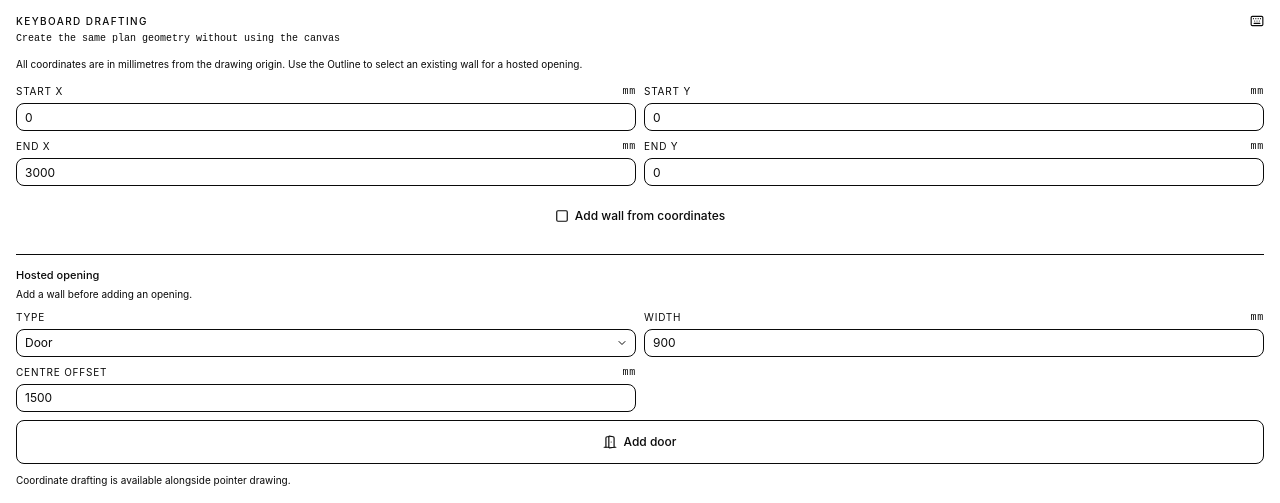
Scenario: AccessibleDraftingPanel › aria-live status updates › status message updates live as form interactions occur
# Trigger validation error
Replace the text in the field labelled "Start X mm" with "xyz" at (326, 117), box [16,103,636,131]
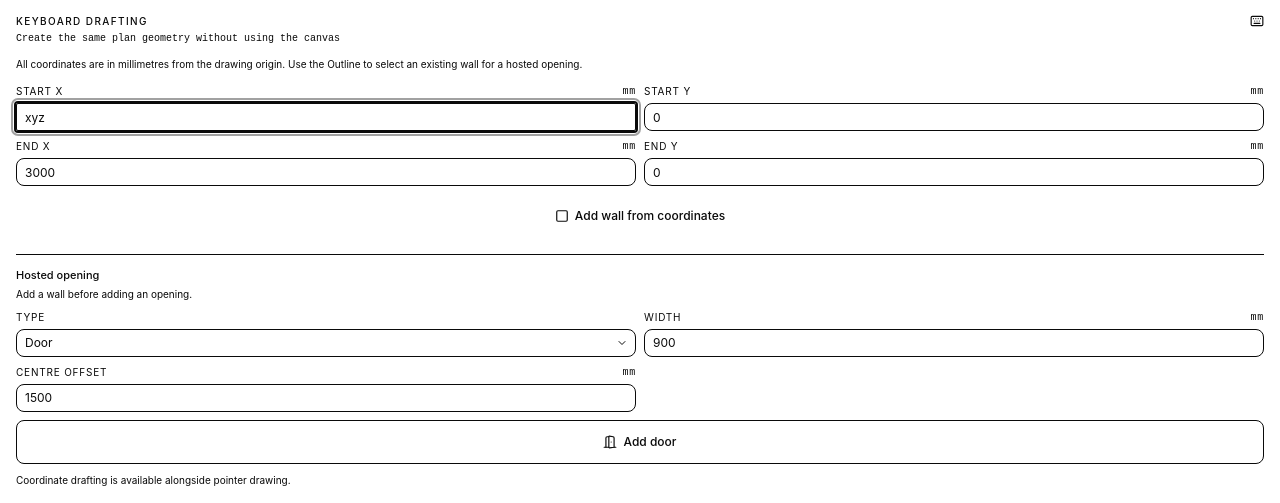
Click the button "Add wall from coordinates" at (640, 216), box [16,194,1264,238]
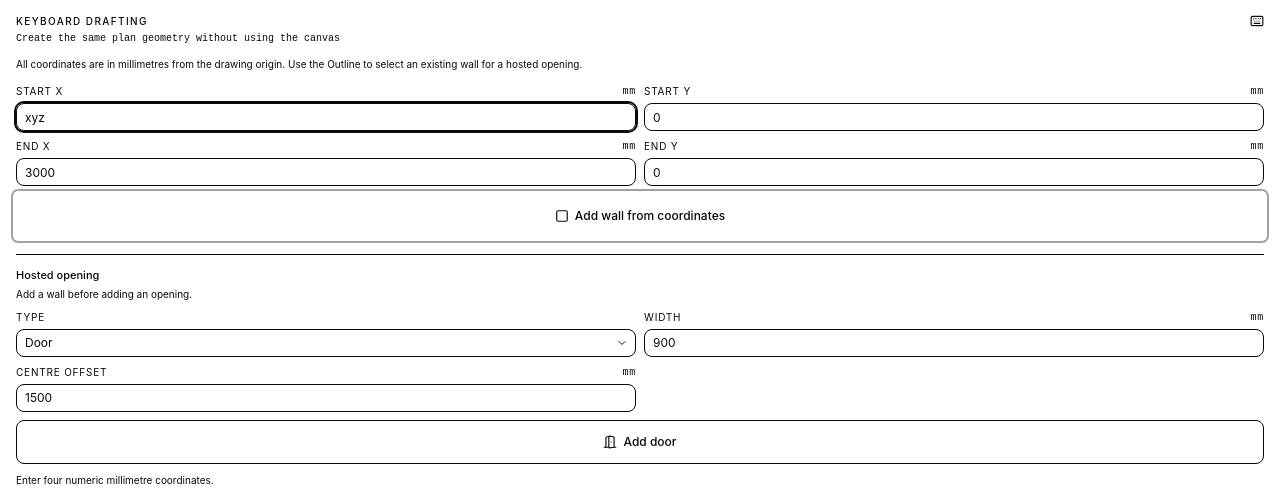
Result: the text "Enter four numeric millimetre coordinates." is shown at [16,474,214,486]
Replace the text in the field labelled "Start X mm" with "100" at (326, 117), box [16,103,636,131]
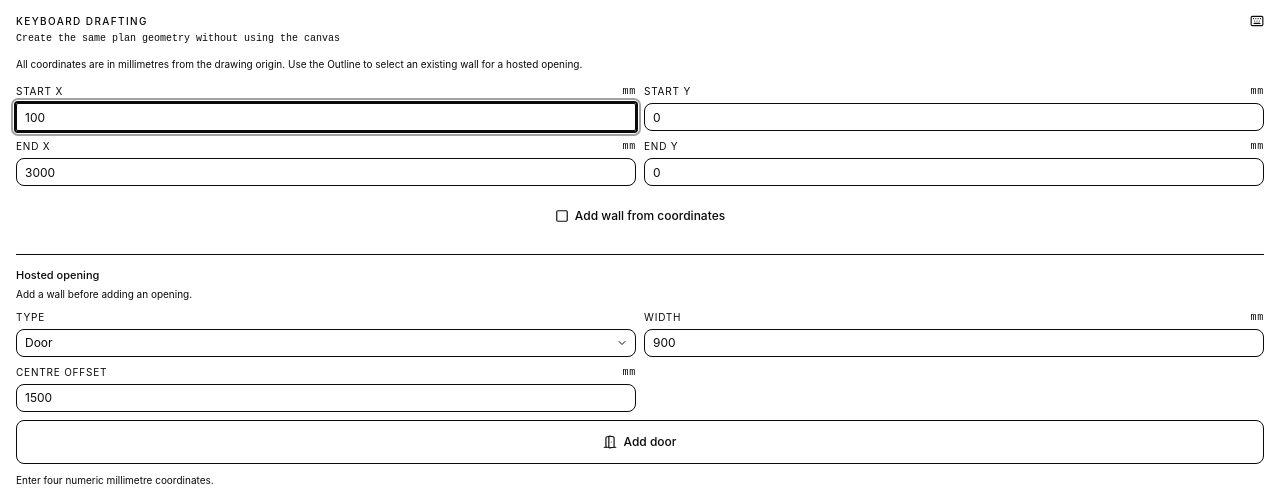
Click the button "Add wall from coordinates" at (640, 216), box [16,194,1264,238]
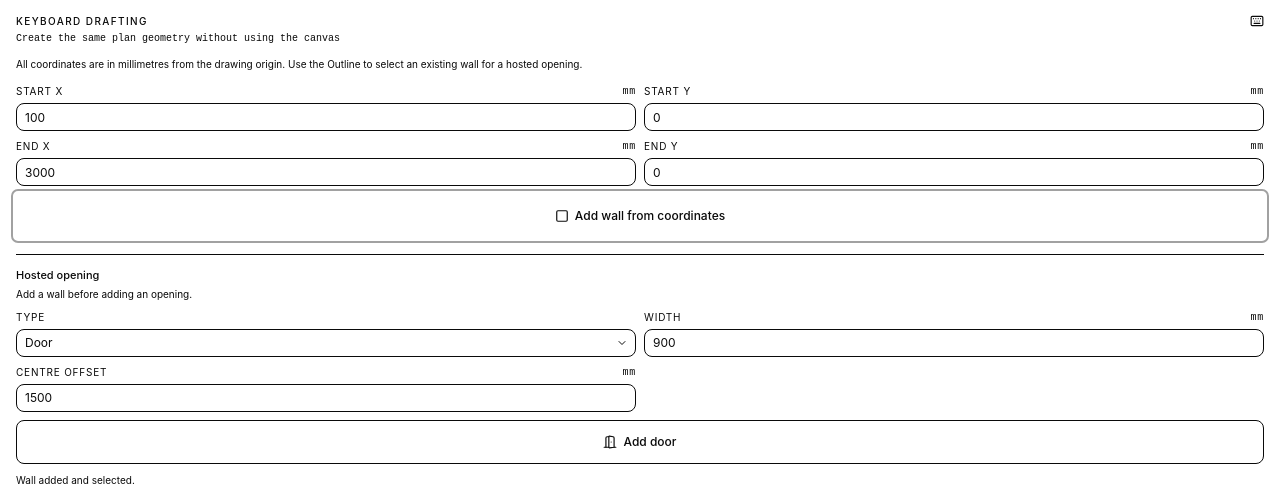
Result: the text "Wall added and selected." is shown at [16,474,135,486]
